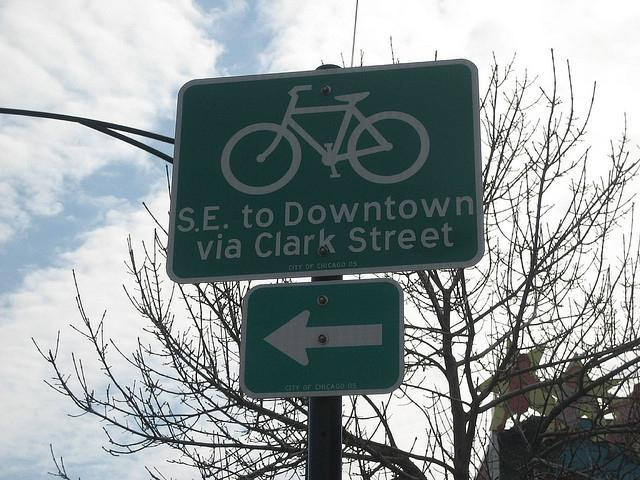bicycle: (223, 85, 431, 194)
